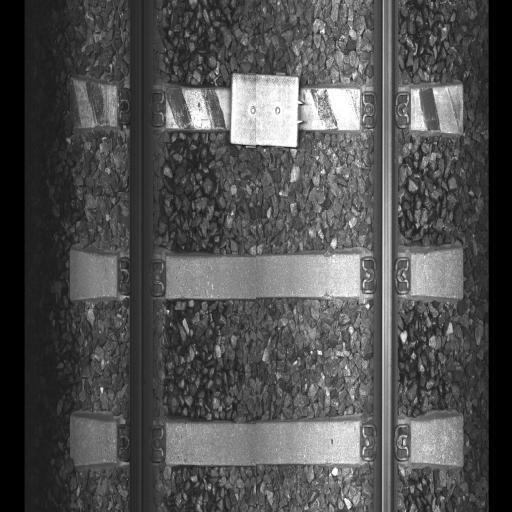clips: (115, 84, 166, 133), (360, 85, 411, 134), (116, 253, 166, 296), (118, 419, 167, 462), (360, 254, 412, 294), (361, 421, 411, 462)
sleepers: (70, 77, 464, 140), (71, 413, 464, 470), (69, 249, 463, 301)
